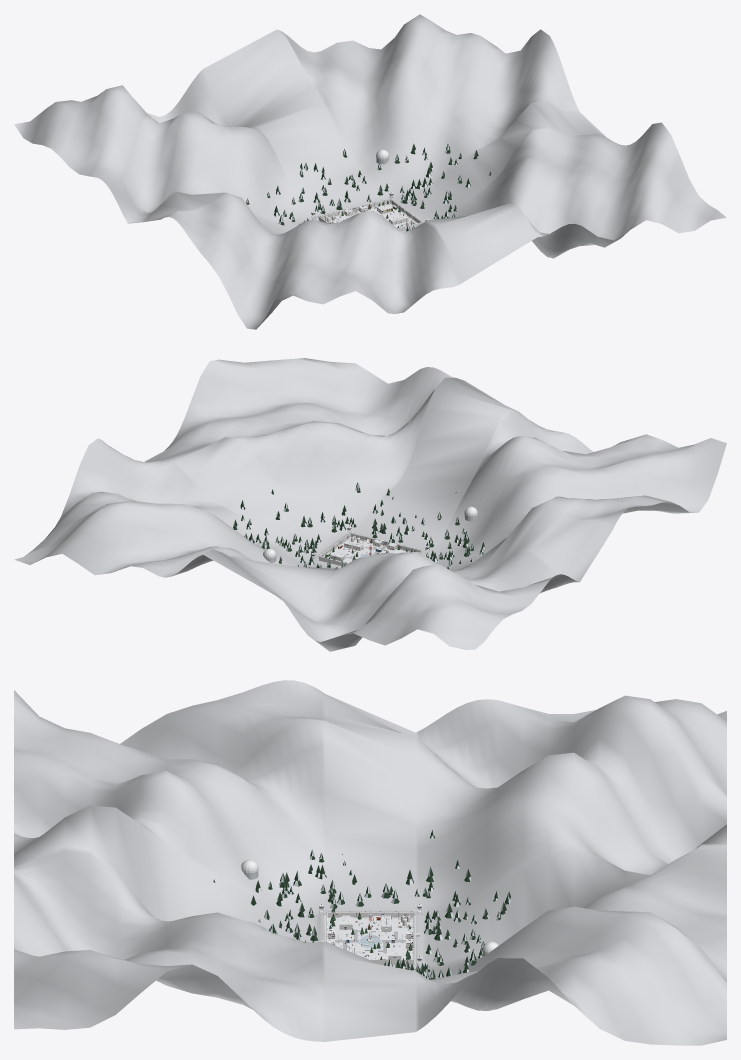
File: snow.glb
3 views of the same model, one above another, from view 1: azimuth 30°, elevation 25°; view 2: azimuth 150°, elevation 25°; view 3: azimuth 270°, elevation 25° (orthographic). The views are drawn at different scales.
Parts seen in each view (by area): view 1: snow_drift, snow_fir; view 2: snow_drift, snow_fir, snow_snow; view 3: snow_drift, snow_fir, snow_snow, snow_snowcap, snow_grey.
Part boxes in pixels (x1,y1,x2,y2): snow_drift: (14, 14, 726, 329); snow_fir: (246, 143, 491, 231); snow_drift: (14, 358, 726, 651); snow_fir: (233, 482, 485, 569); snow_snow: (318, 537, 422, 562); snow_drift: (14, 680, 726, 1045); snow_fir: (213, 830, 510, 979); snow_snow: (325, 917, 415, 964); snow_snowcap: (319, 904, 421, 958); snow_grey: (319, 906, 421, 964).
Size of the model in its own units: 560 by 120 by 560.
Materials: 39 (7 with a texture image).
